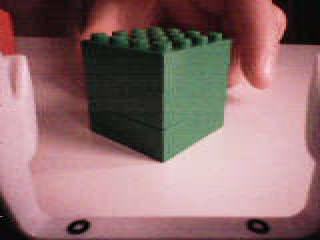legocube: (78, 25, 237, 166)
